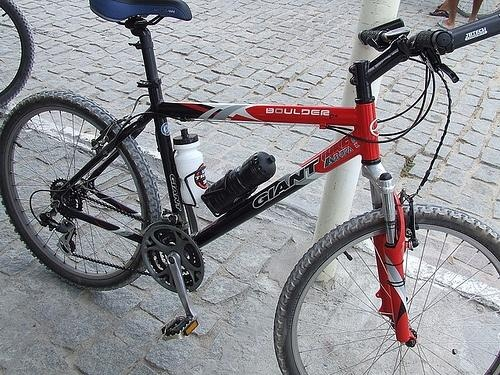bicycle: (2, 1, 500, 375)
bottle: (202, 151, 278, 218), (173, 129, 209, 208)
